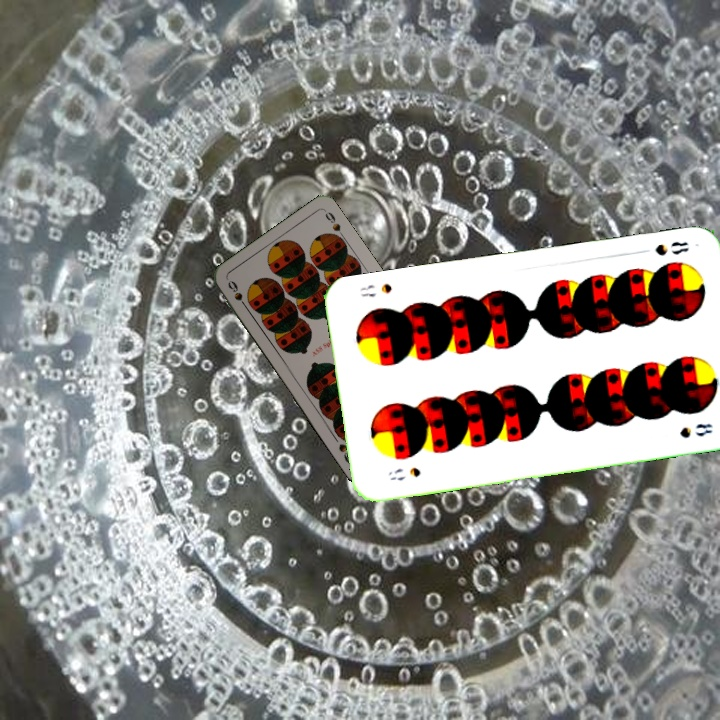S8: (651, 237, 691, 259), (384, 463, 423, 484)
S9: (224, 276, 251, 313)
